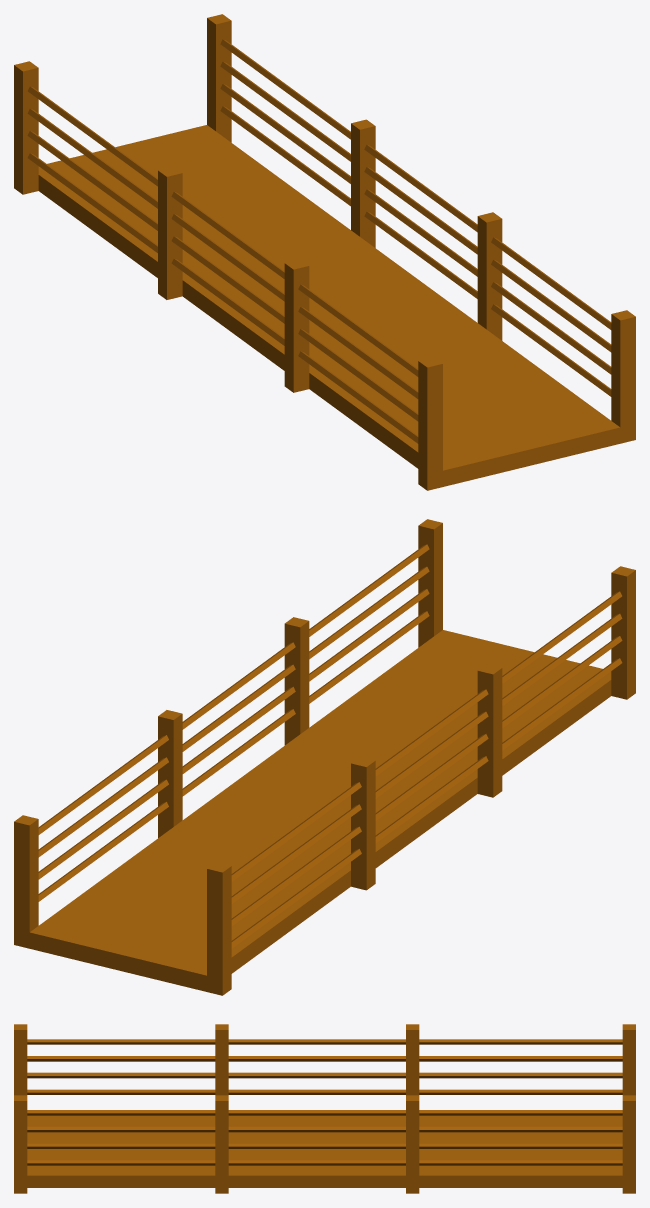
Rendered from BalconyBridgeC_1.fbx.
The picture shows the model from 3 angles, top to bottom: view 1: azimuth 30°, elevation 25°; view 2: azimuth 150°, elevation 25°; view 3: azimuth 270°, elevation 25°; orthographic projection. The views are drawn at different scales.
Parts seen in each view (by area): view 1: BalconyBridgeC_1; view 2: BalconyBridgeC_1; view 3: BalconyBridgeC_1.
Part boxes in pixels (bbox=[...]): BalconyBridgeC_1: bbox=[14, 14, 635, 490]; BalconyBridgeC_1: bbox=[14, 519, 635, 995]; BalconyBridgeC_1: bbox=[14, 1024, 635, 1193].
Bounding box in the file's own units: 164 × 92.65 × 563.
